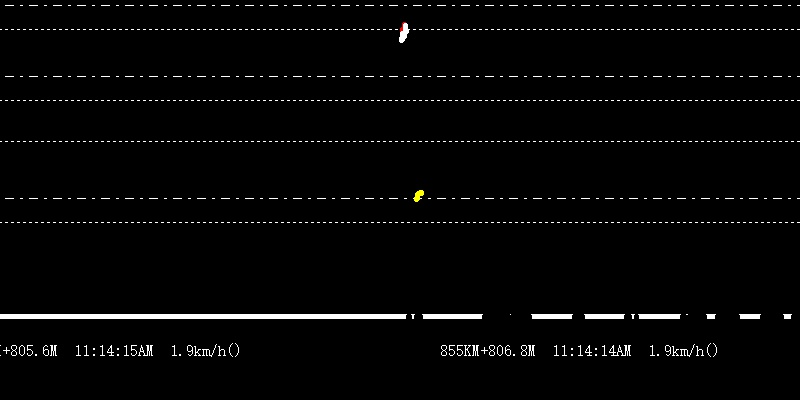face_s: (398, 20, 409, 44)
